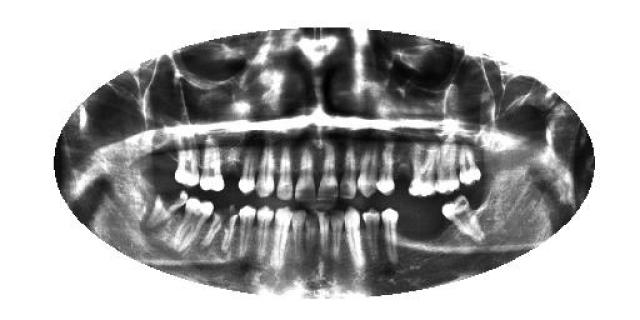Cavity: (144, 188, 188, 232), (202, 202, 238, 254)
